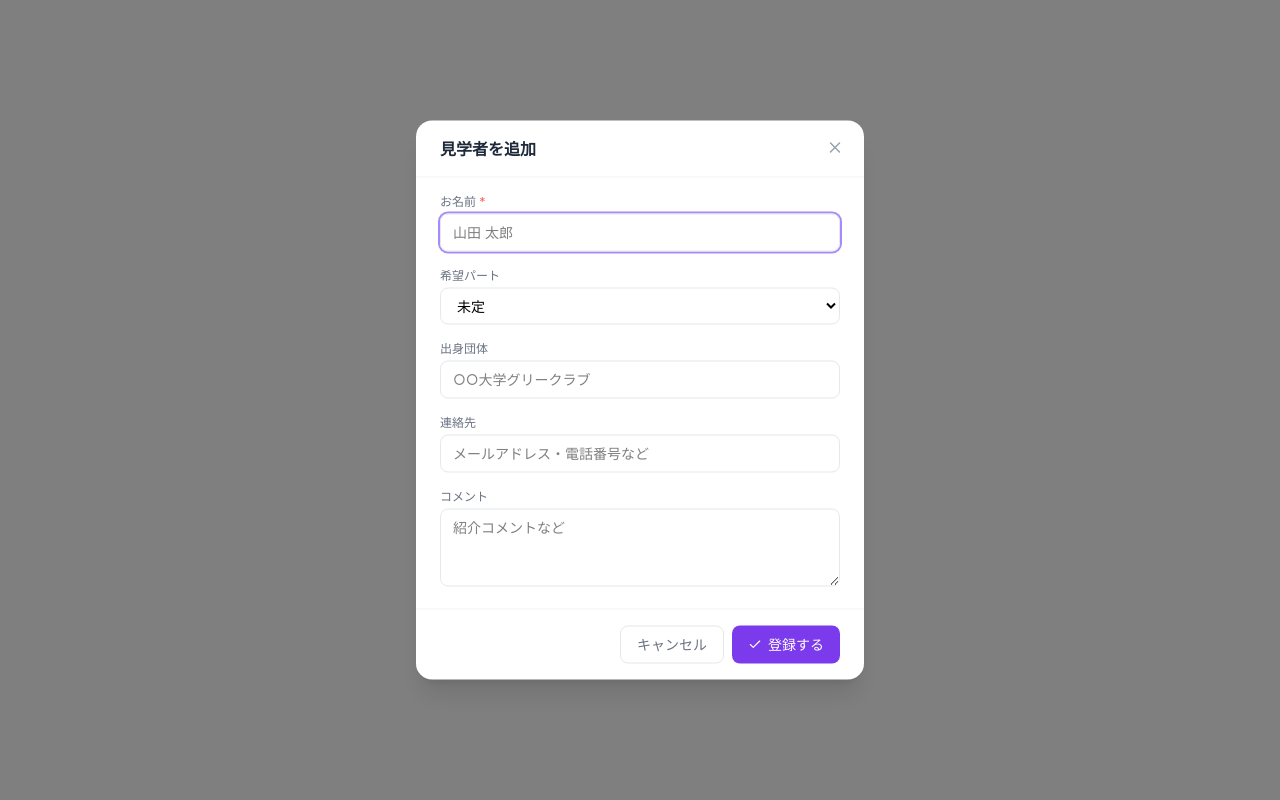
Test: AddVisitorApplicationModal › お名前のみ入力して送信できる
Type "見学 太郎" into the field labelled "お名前 *" at (640, 232), box left=440, top=214, right=840, bottom=252
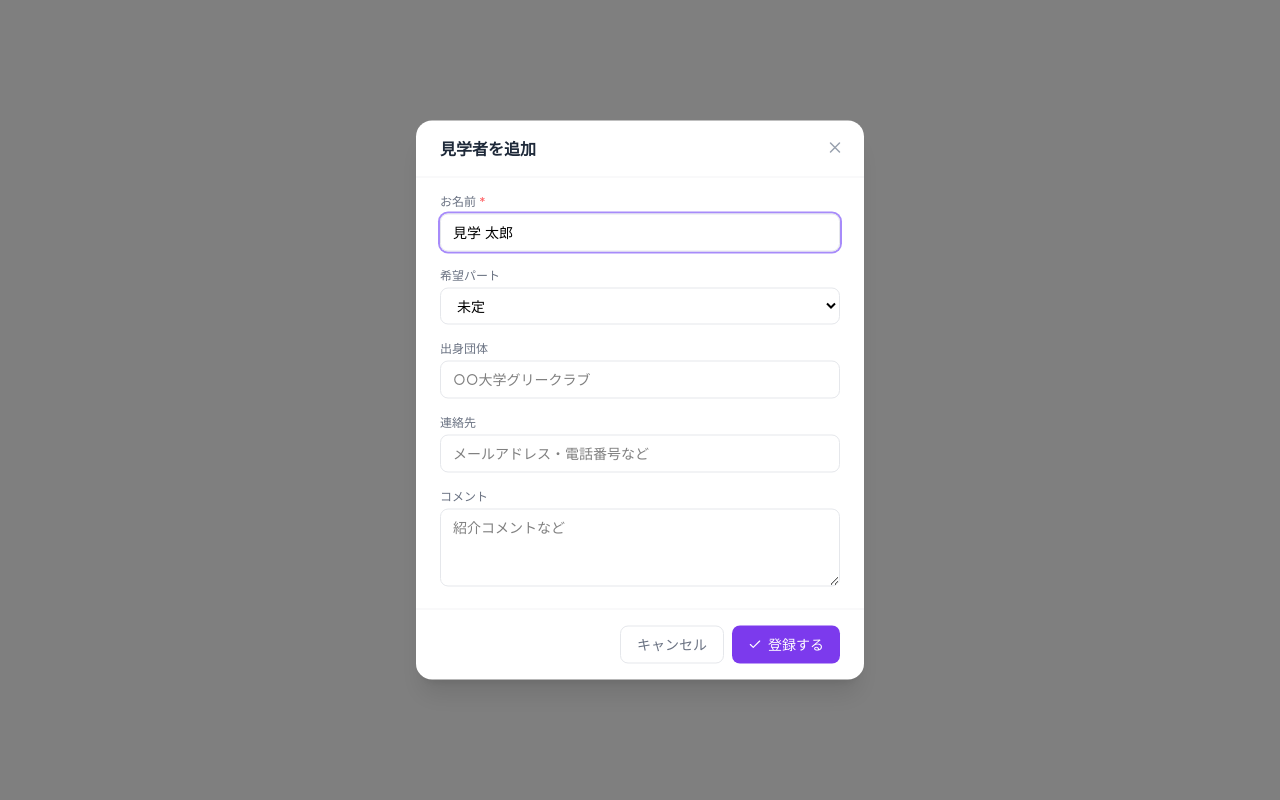
Click the button "登録する" at (786, 644), box left=732, top=626, right=840, bottom=664
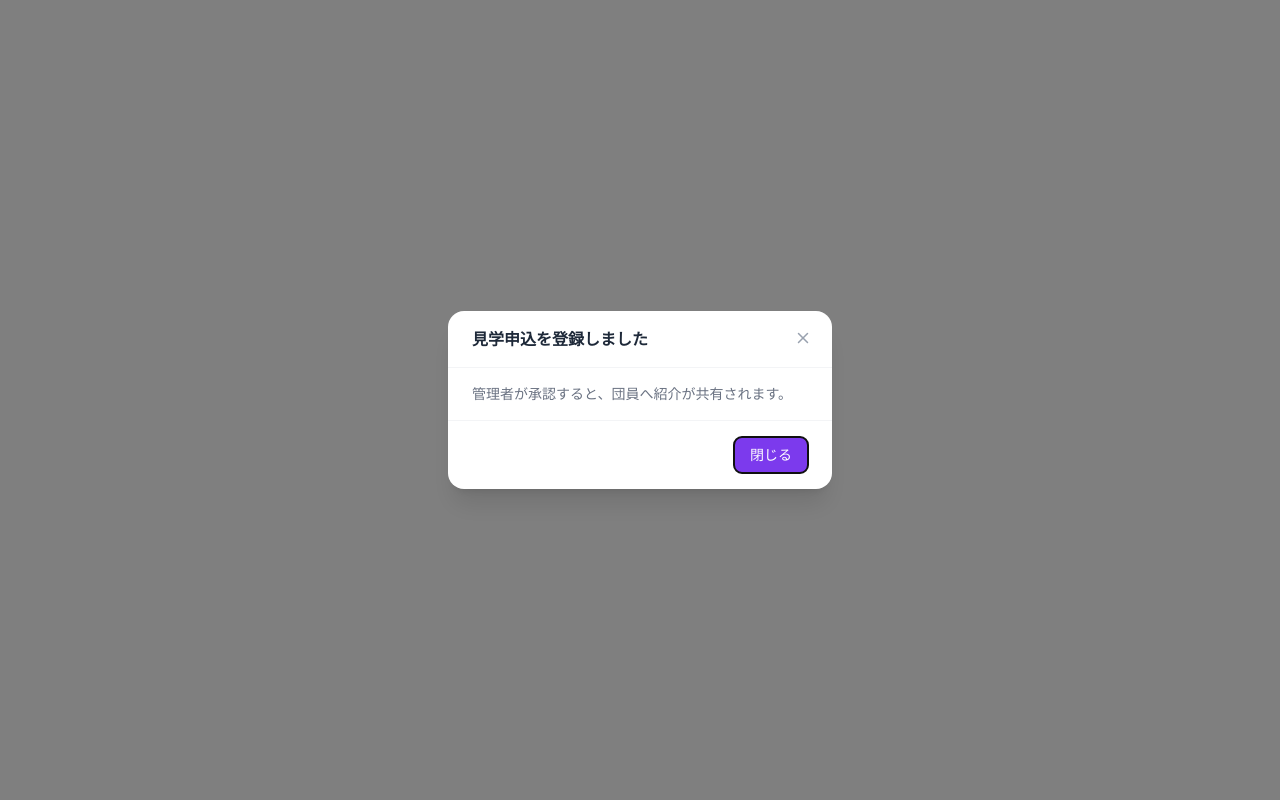
Now the dialog "見学申込を登録しました" is shown, box left=448, top=311, right=832, bottom=489
Now the message shows "管理者が承認すると", box left=472, top=385, right=792, bottom=402
